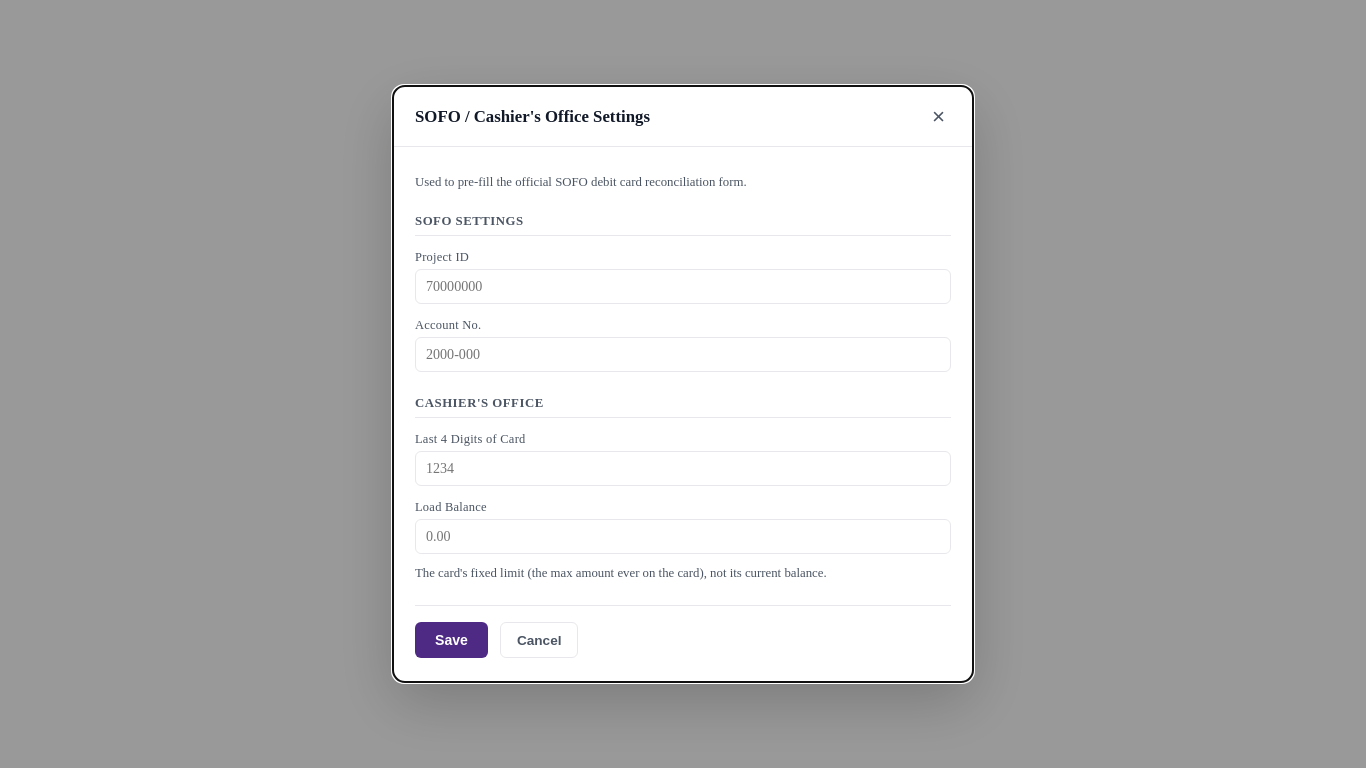
Scenario: DebitCardSettingsModal › rejects a Project ID that is not an 8-digit number starting with 7
Type "12345678" into the field labelled "Project ID" at (683, 287), box top-left (415, 269), bottom-right (951, 304)
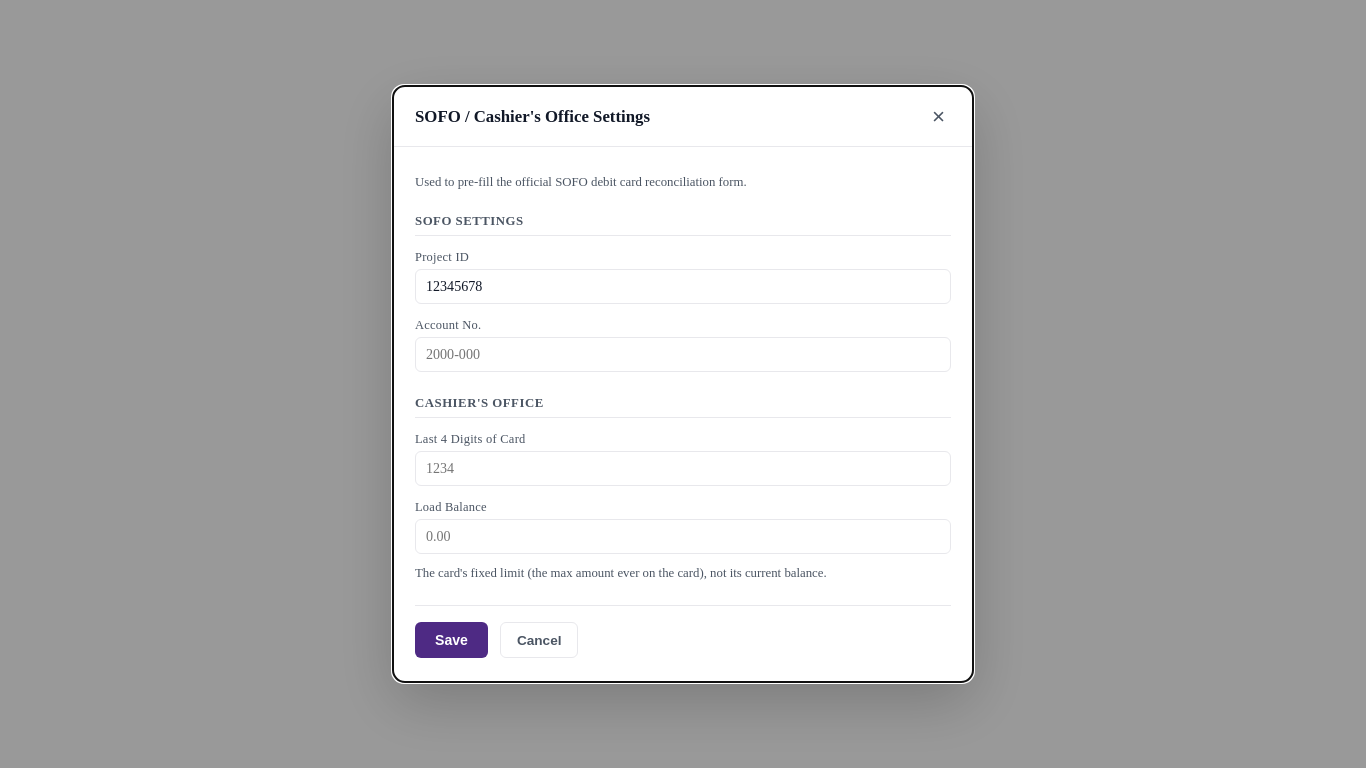
Click the button "Save" at (451, 640), box top-left (415, 622), bottom-right (488, 658)
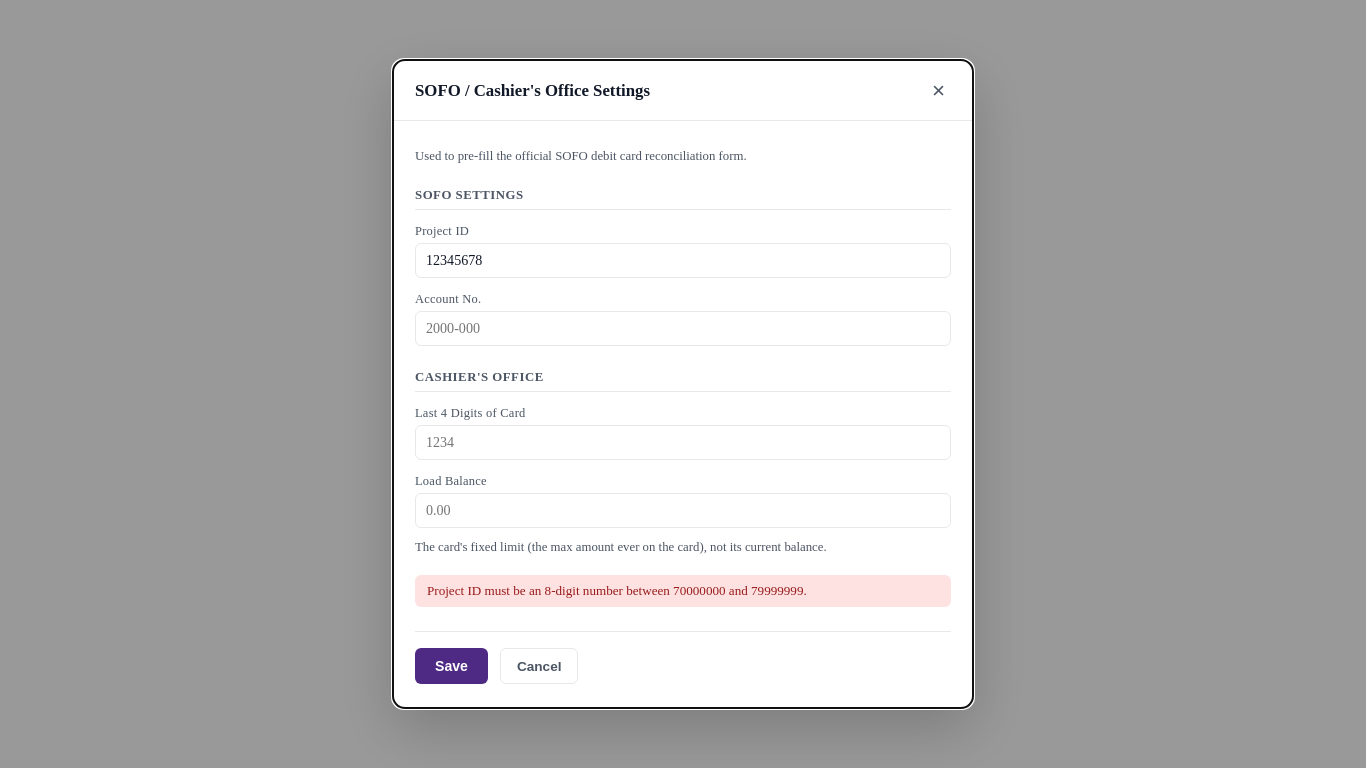
Check: the text "Project ID must be an 8-digit number between 70000000 and 79999999." is shown, box top-left (415, 575), bottom-right (951, 607)
